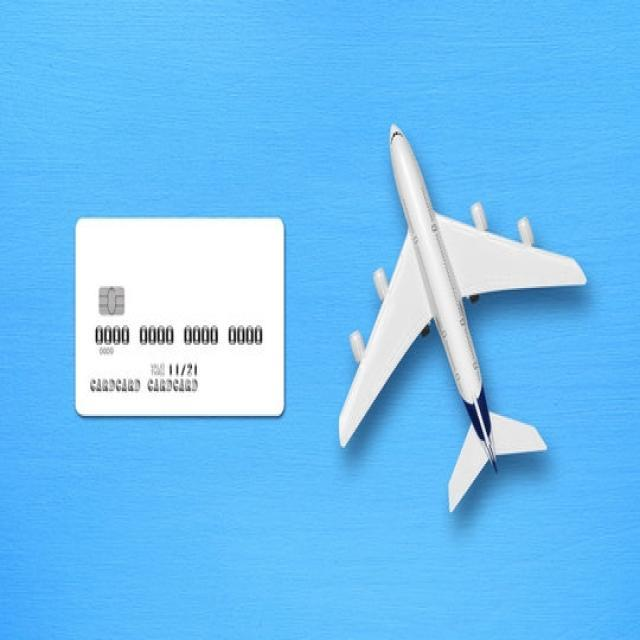payment_card: (73, 215, 285, 418)
